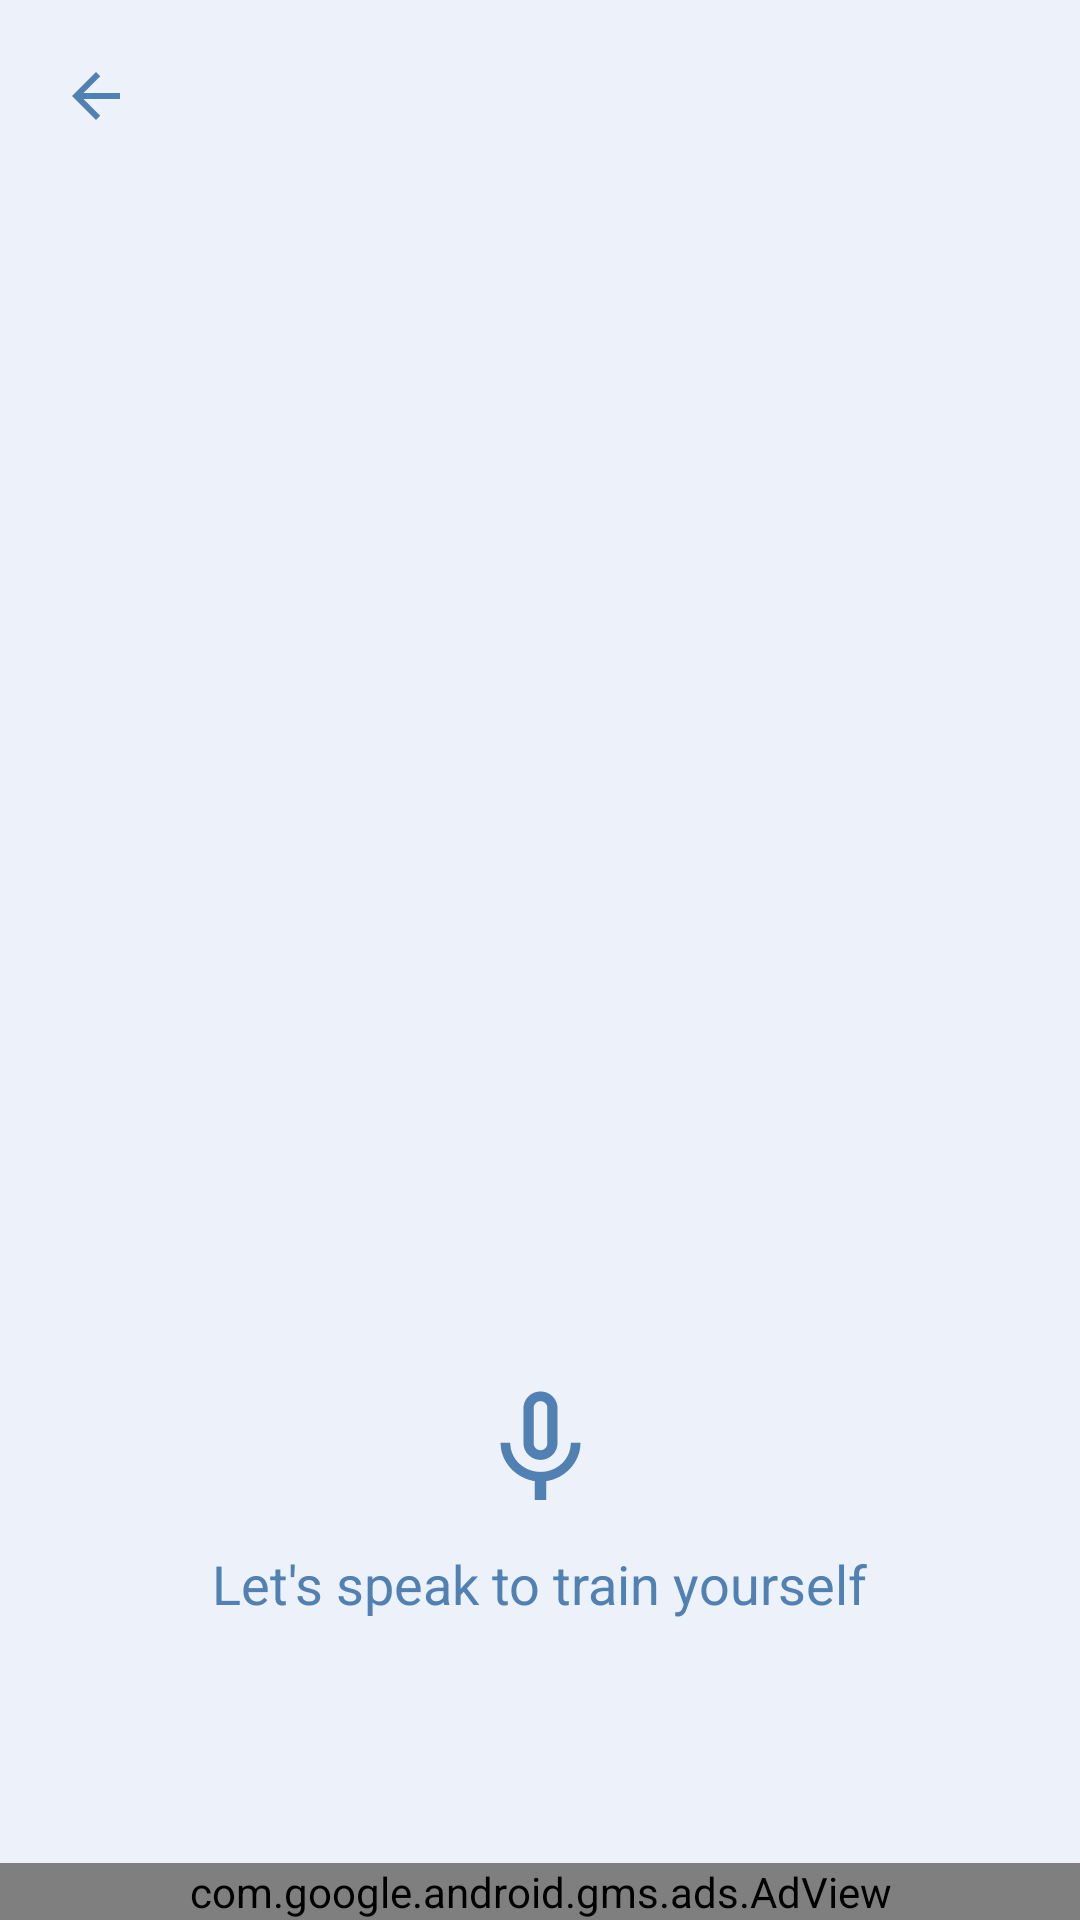

Where to tap for icons on this 1080px x 1920px app screen, as [x,y]:
arrow back: [96,96]
mic none: [540,1445]
